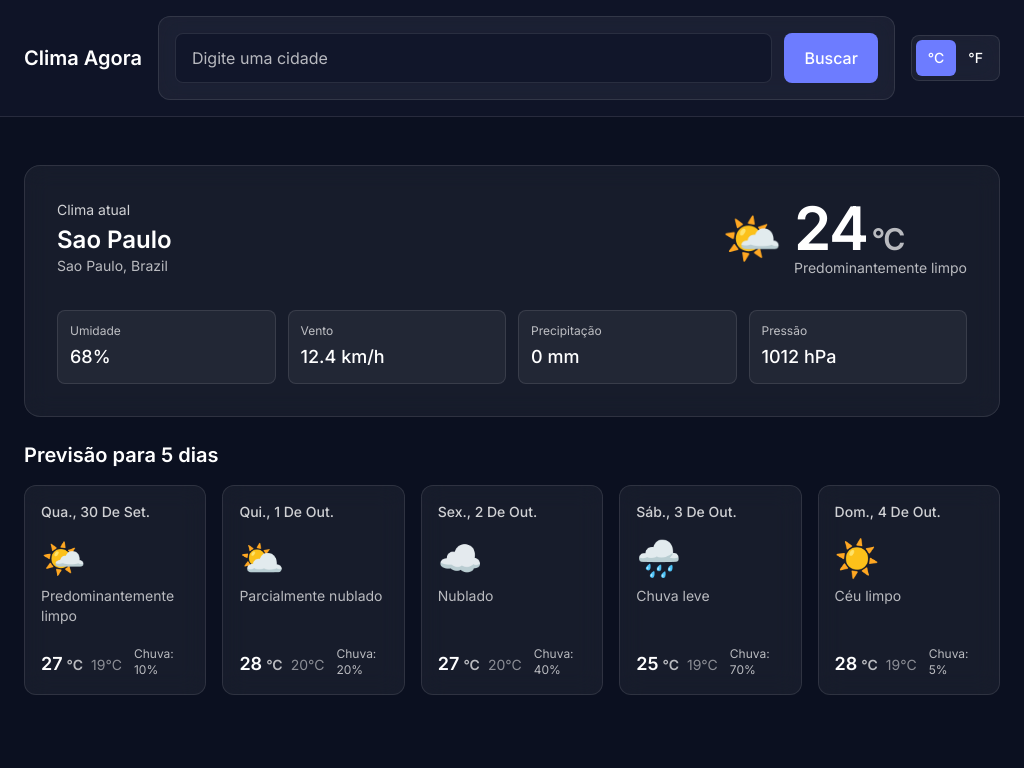
Test: App › keeps unit in the UI and updates presentation without a new search
Click the button "°F" at (976, 58), box [956,40,995,76]
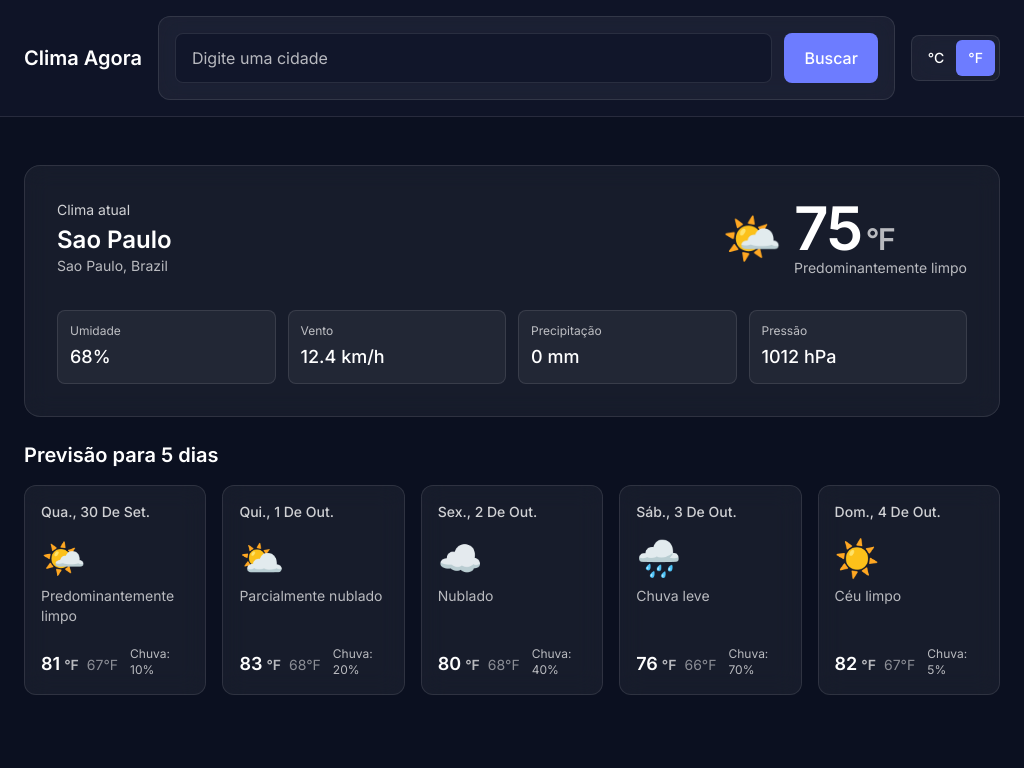
Now the text "75" is shown, box [794,192,862,264]
